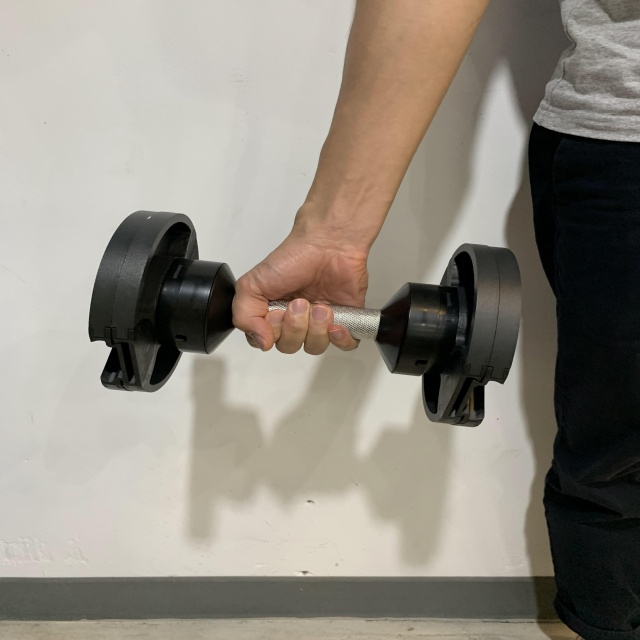03-6kg: (88, 210, 520, 427)
